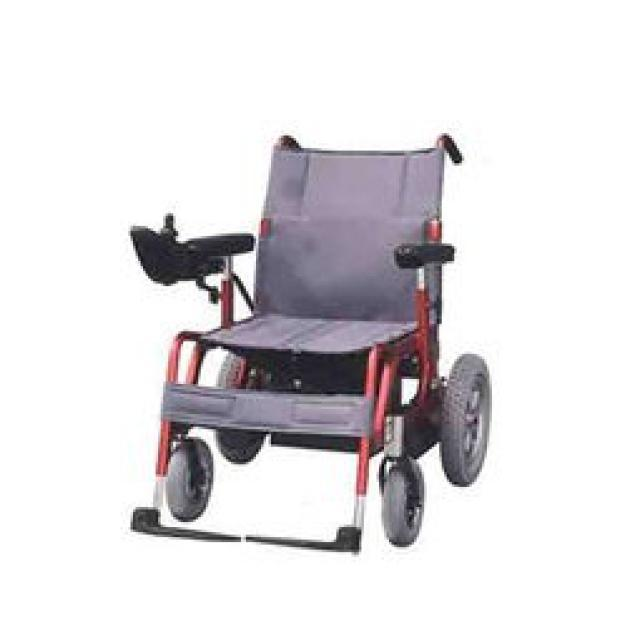wheelchair: (123, 120, 502, 558)
